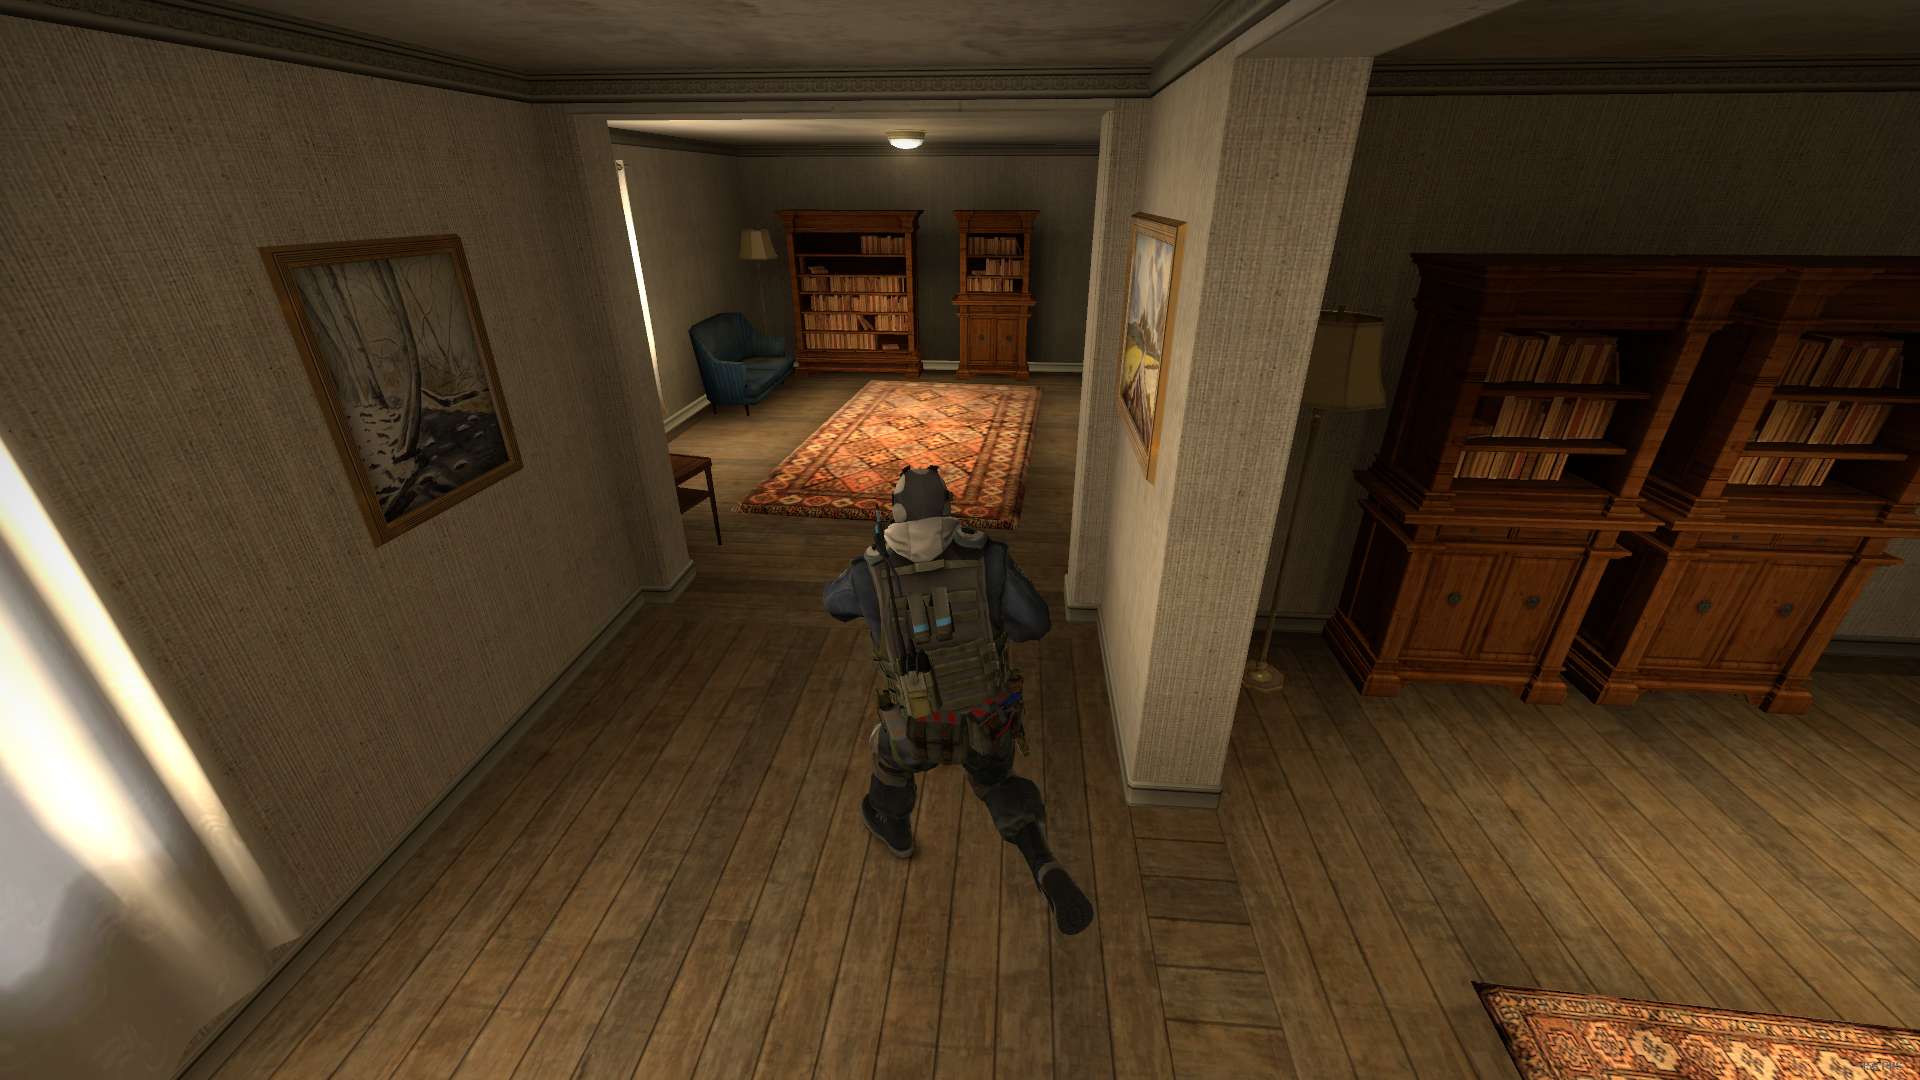ct: (822, 467, 1095, 938)
